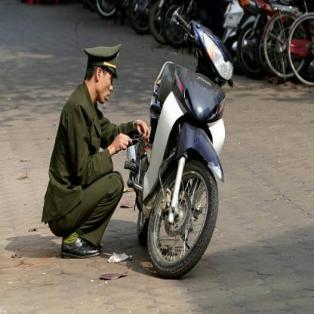Motocicleta: (129, 10, 238, 284)
